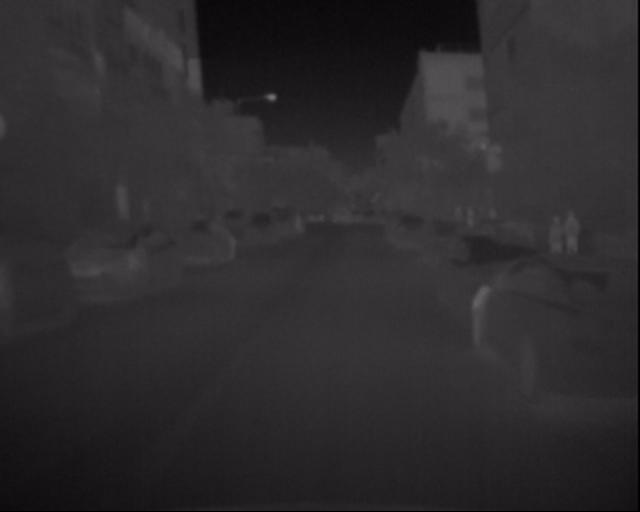person: (435, 196, 519, 241), (543, 217, 589, 266)
